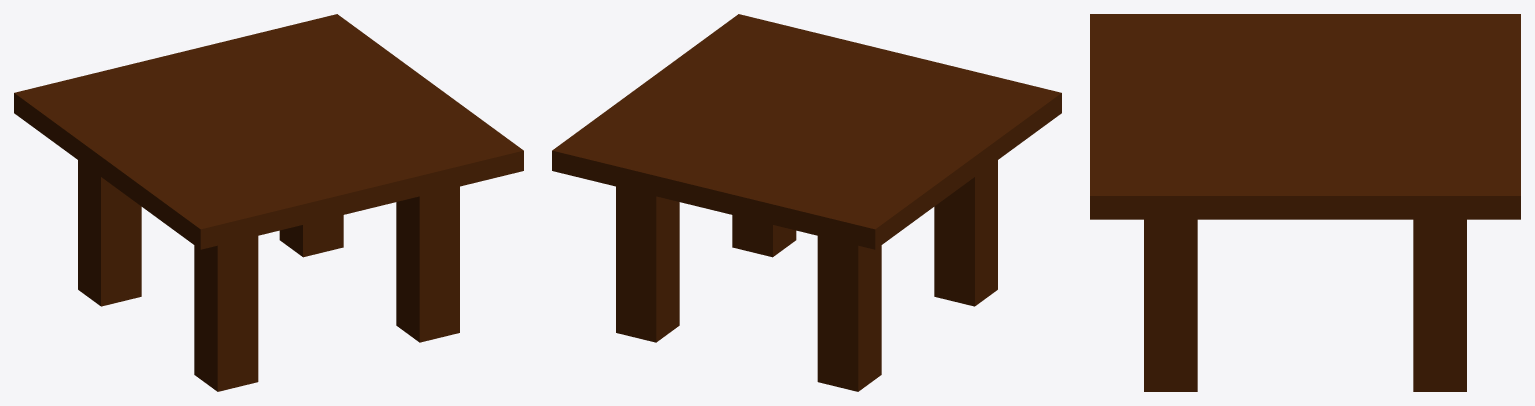
File: Table.fbx
3 renders of one model, left to right at view 1: azimuth 30°, elevation 25°; view 2: azimuth 150°, elevation 25°; view 3: azimuth 270°, elevation 25°, orthographic. The views are drawn at different scales.
Parts seen in each view (by area): view 1: Cube, Cube.003, Cube.004, Cube.002, Cube.005; view 2: Cube, Cube.002, Cube.005, Cube.003, Cube.004; view 3: Cube, Cube.004, Cube.005.
Boxes of the visible parts, box(x1,y1,x2,y2) form: Cube: box(14, 14, 523, 249); Cube.003: box(194, 236, 258, 391); Cube.004: box(396, 186, 459, 342); Cube.002: box(78, 160, 141, 306); Cube.005: box(279, 215, 343, 257); Cube: box(552, 14, 1061, 249); Cube.002: box(817, 236, 881, 391); Cube.005: box(616, 186, 679, 342); Cube.003: box(934, 160, 997, 306); Cube.004: box(732, 215, 796, 257); Cube: box(1090, 14, 1520, 219); Cube.004: box(1144, 219, 1197, 391); Cube.005: box(1413, 219, 1466, 391).
Size of the model in its own units: 200 by 112 by 200.
